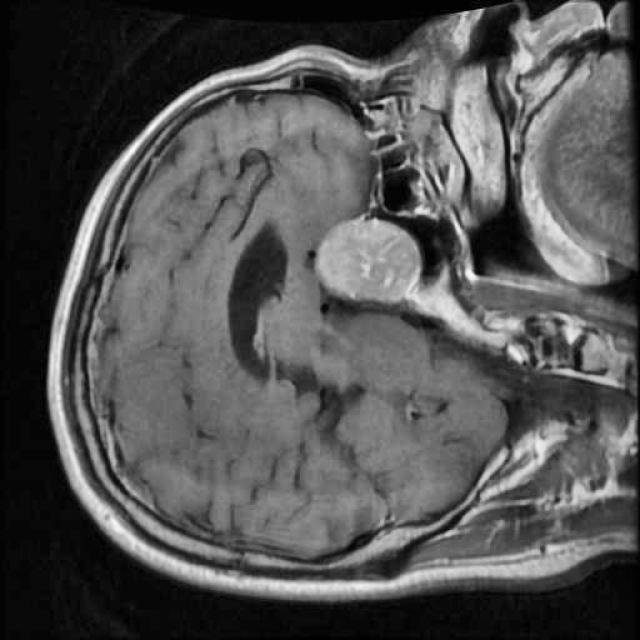Tumor: (301, 201, 439, 318)
